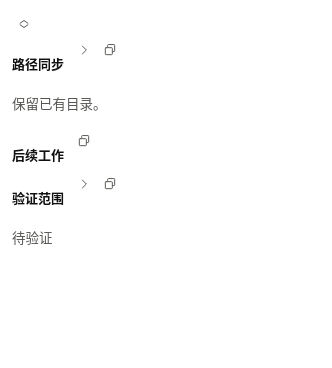
expands and collapses all detail lists, including after an individual toggle
The width and height of the screenshot is (332, 368).
Step 1. Click the button named "展开路径同步的细则" → (84, 50), box [72, 38, 96, 62]
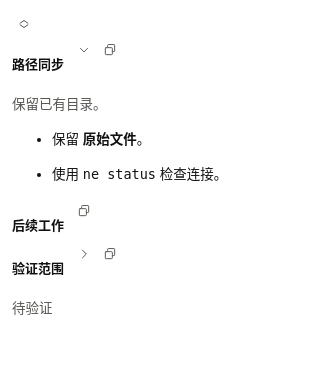
Expected: the number of lists is 1, [52, 131, 227, 182]
Step 2. Click the button named "全部展开" → (24, 24), box [12, 12, 36, 36]
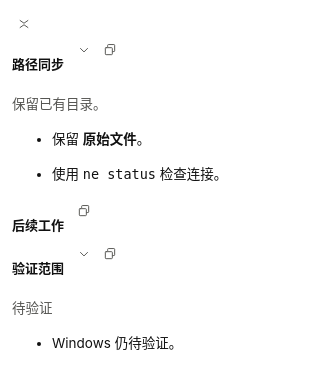
Expected: the number of lists is 2, [52, 131, 227, 182]; [52, 335, 182, 351]
Step 3. Click the button named "全部收起" → (24, 24), box [12, 12, 36, 36]
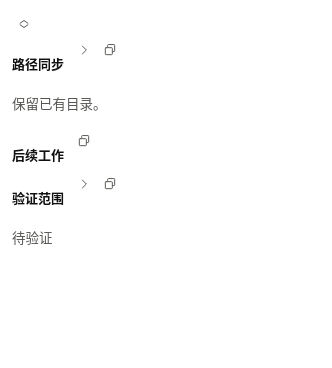
Expected: the text "保留已有目录。" is shown, [12, 96, 106, 112]
Expected: the list is gone
